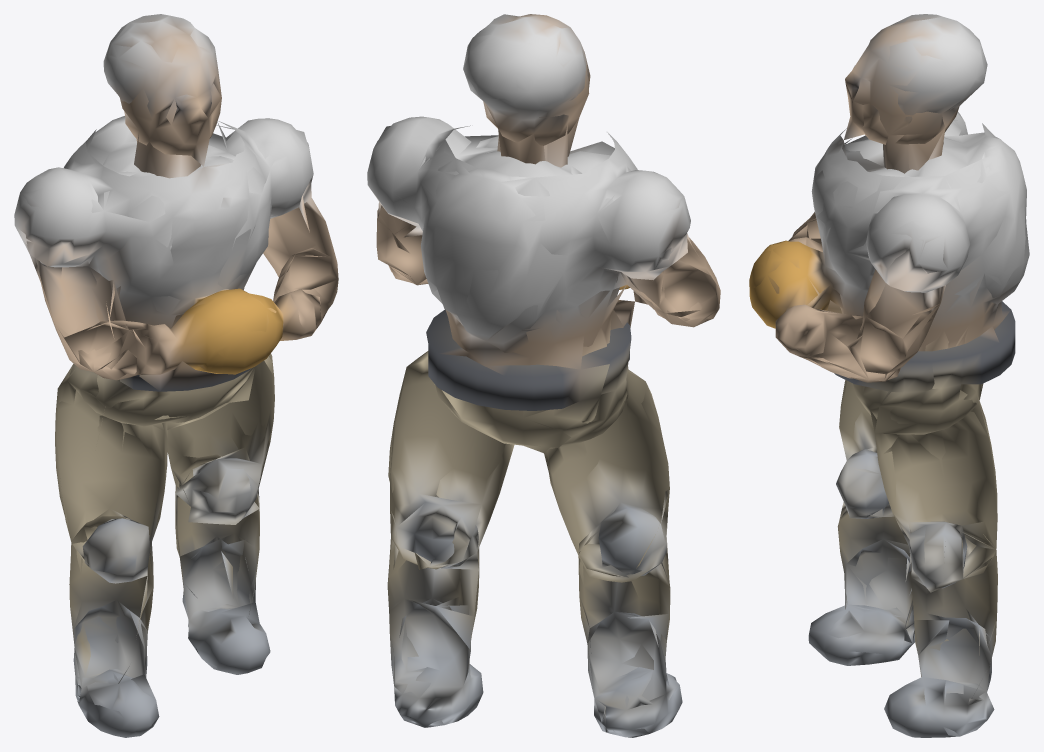
Rendered from terrorist.glb.
3 renders of one model, left to right at view 1: azimuth 30°, elevation 25°; view 2: azimuth 150°, elevation 25°; view 3: azimuth 270°, elevation 25°, orthographic. The views are drawn at different scales.
Parts seen in each view (by area): view 1: Hull; view 2: Hull; view 3: Hull.
Boxes of the visible parts, x1,y1,x2,y2 form: Hull: [14, 14, 338, 737]; Hull: [367, 14, 720, 737]; Hull: [749, 14, 1029, 737].
Size of the model in its own units: 0.4361 by 0.9516 by 0.3569.
